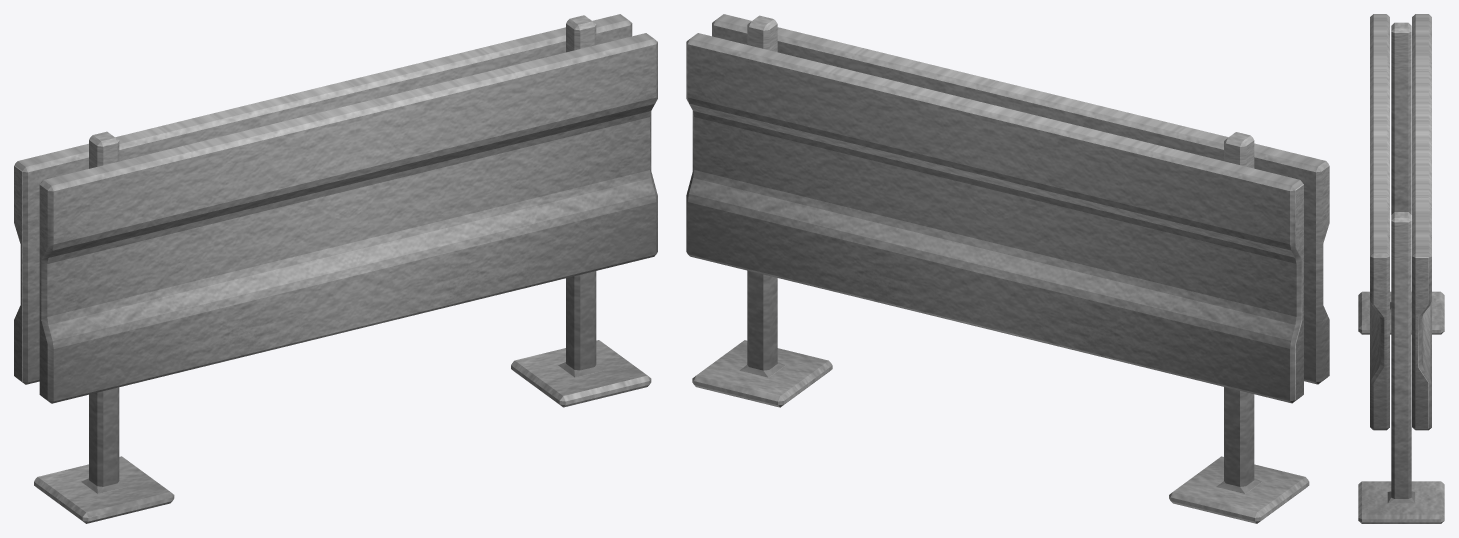
File: Barrier_Long_Metal.fbx
3 renders of one model, left to right at view 1: azimuth 30°, elevation 25°; view 2: azimuth 150°, elevation 25°; view 3: azimuth 270°, elevation 25°, orthographic. The views are drawn at different scales.
Visible parts, largest first — view 1: Barrier_Long_Metal; view 2: Barrier_Long_Metal; view 3: Barrier_Long_Metal.
Boxes of the visible parts, x1,y1,x2,y2 form: Barrier_Long_Metal: (14,14,657,523); Barrier_Long_Metal: (686,14,1329,523); Barrier_Long_Metal: (1358,14,1444,523).
Bounding box in the file's own units: 81.89 × 46.1 × 12.31.
Materials: 1 (1 with a texture image).
